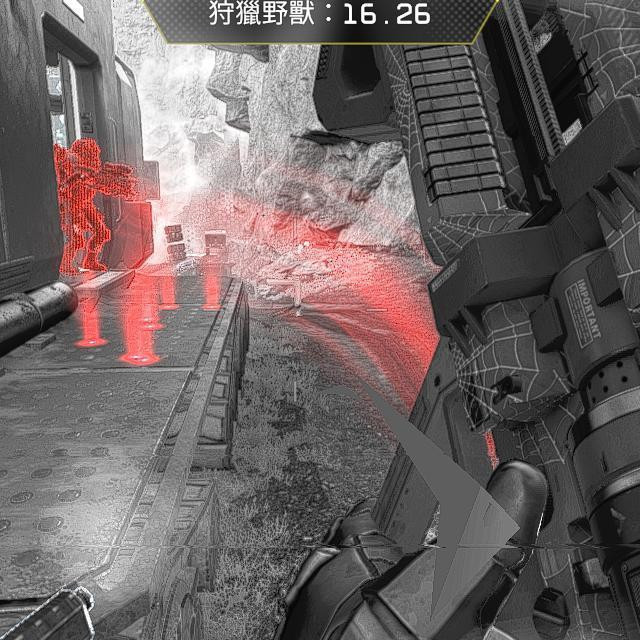avatar: (51, 136, 112, 279)
